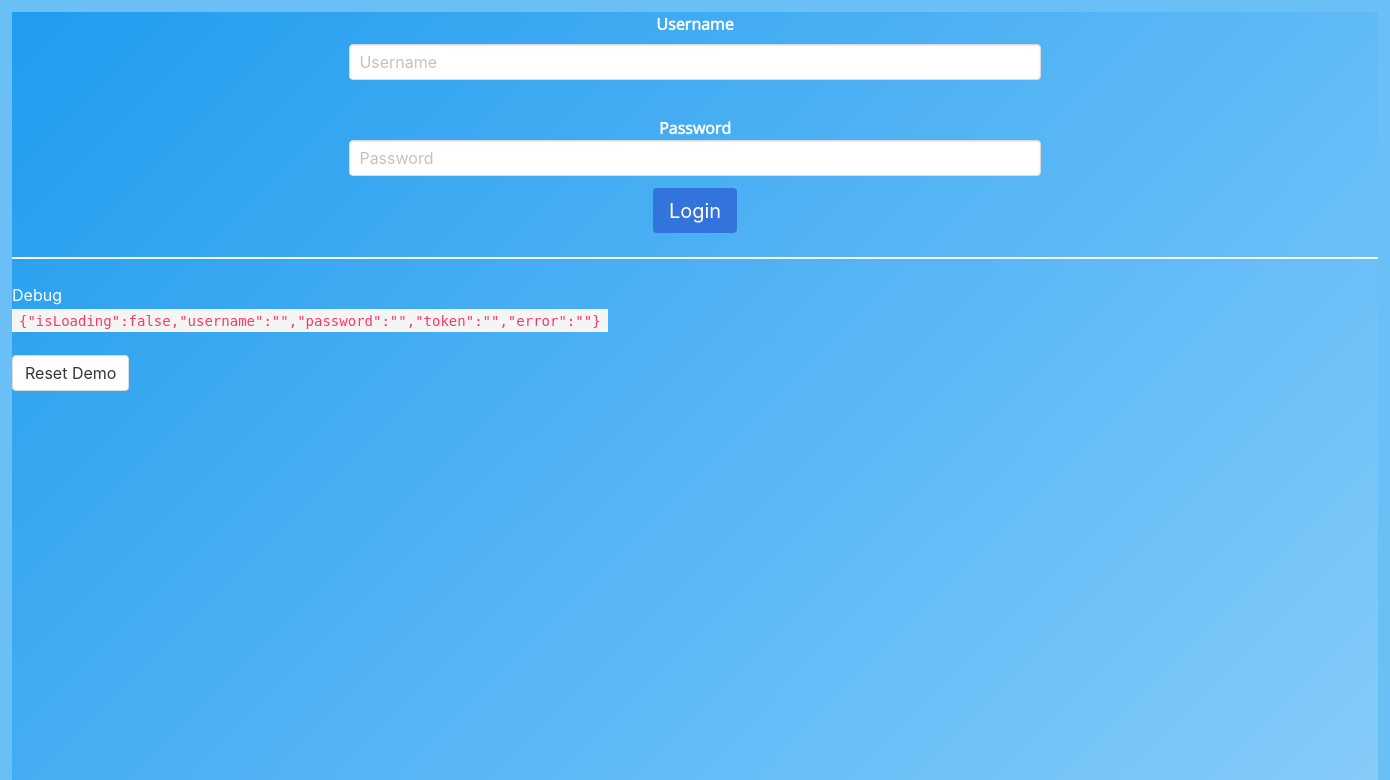
Test: <LoginFormContainer/> › shows error msg if there is one
# Click Submit
Click the button with test id "user-login". click: (695, 210)
box: x1=653 y1=188 x2=737 y2=233
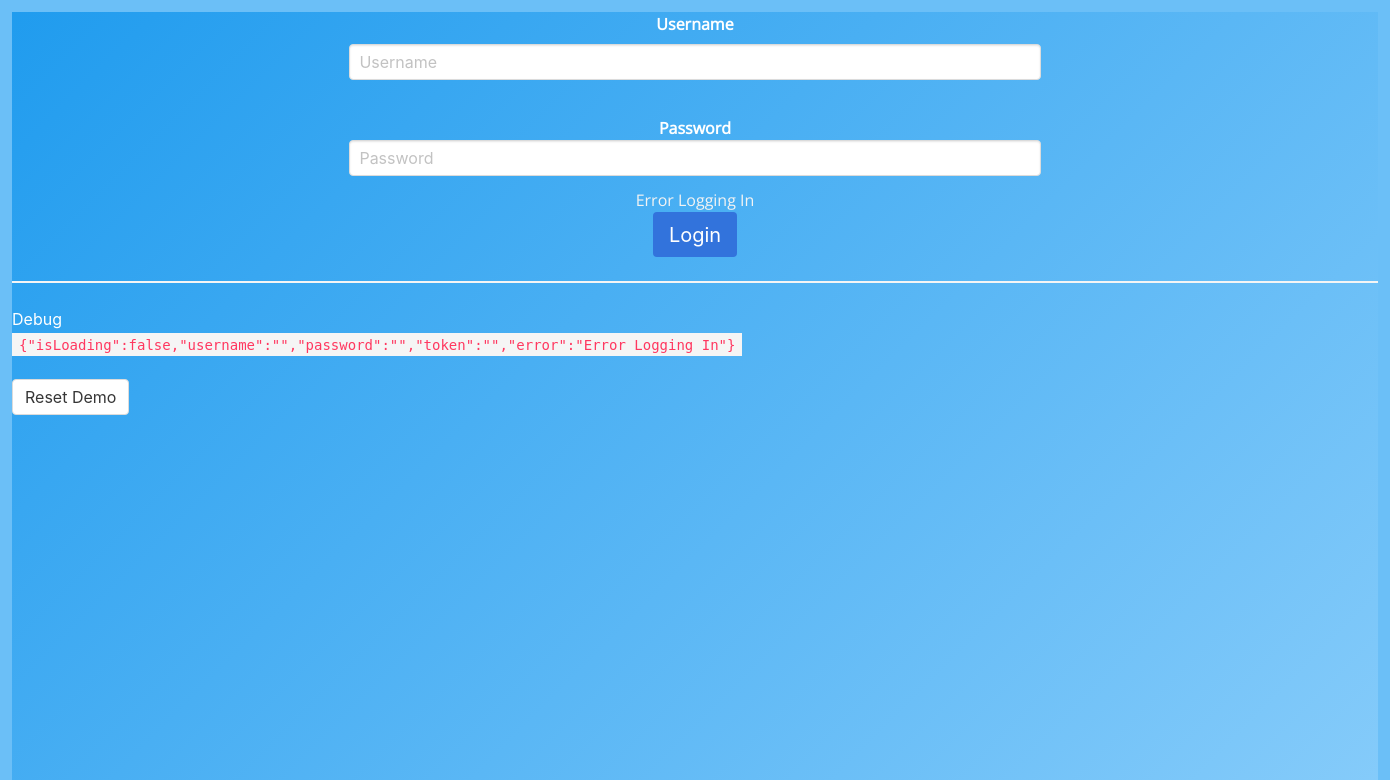
Check: the text "Error Logging In" is shown, box x1=636 y1=189 x2=754 y2=211
